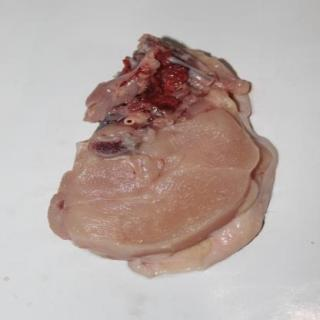Ayam: (49, 35, 280, 274)
